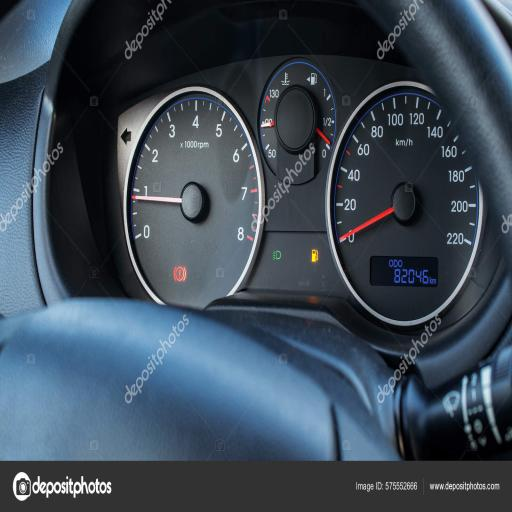empty: (320, 148, 328, 161)
fuel_icon: (310, 68, 319, 89)
full: (322, 83, 326, 98)
guage_area: (246, 56, 346, 198)
needle_center: (272, 89, 322, 152)
needle_tip: (326, 135, 331, 147)
